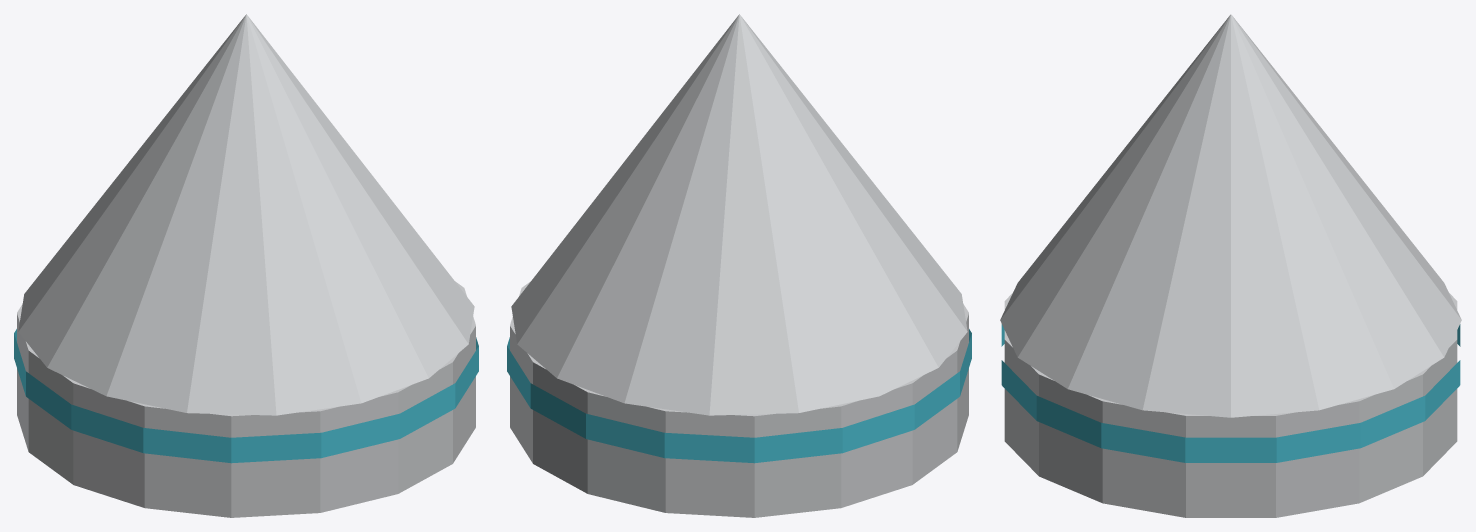
The model's file is ship_nose.obj.
3 views of the same model, side by side, from view 1: azimuth 30°, elevation 25°; view 2: azimuth 150°, elevation 25°; view 3: azimuth 270°, elevation 25° (orthographic).
Bounding box in the file's own units: 1.64 × 1.6 × 1.64.
